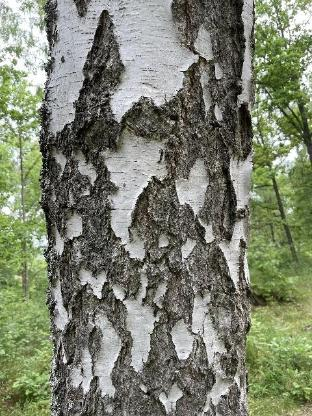tree: (34, 0, 257, 416)
